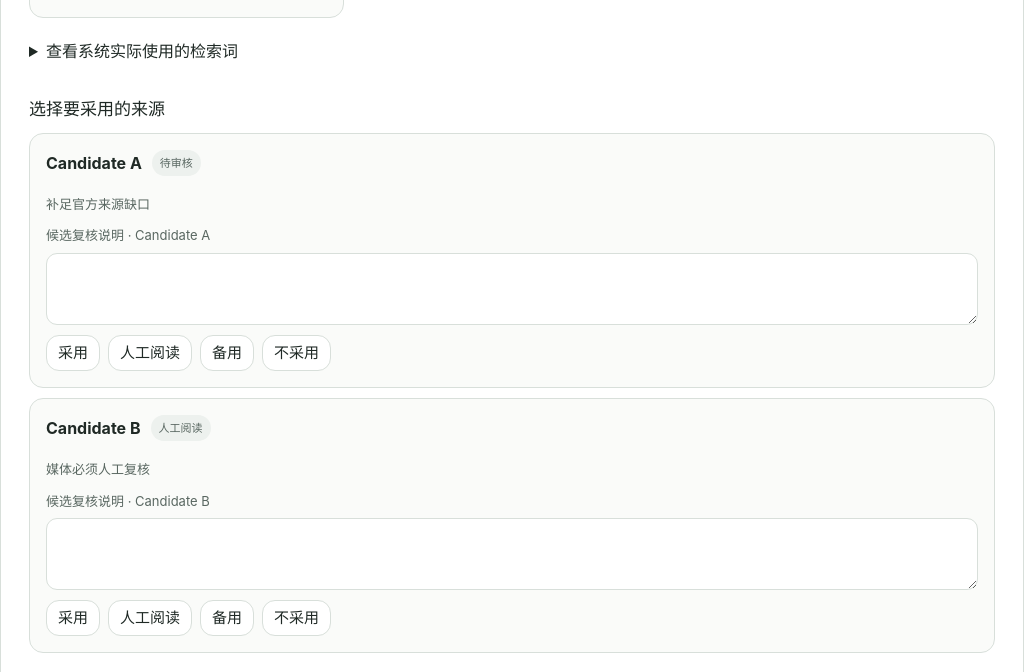
Test: critical workbench workflows › runs the source-campaign review and entity-coverage workbench with explanations
The width and height of the screenshot is (1024, 672).
(page scrolled)
Type "同 owner 重复" into the text box labelled "候选复核说明 · Candidate A" at coordinates (512, 289), box [46, 253, 978, 325]
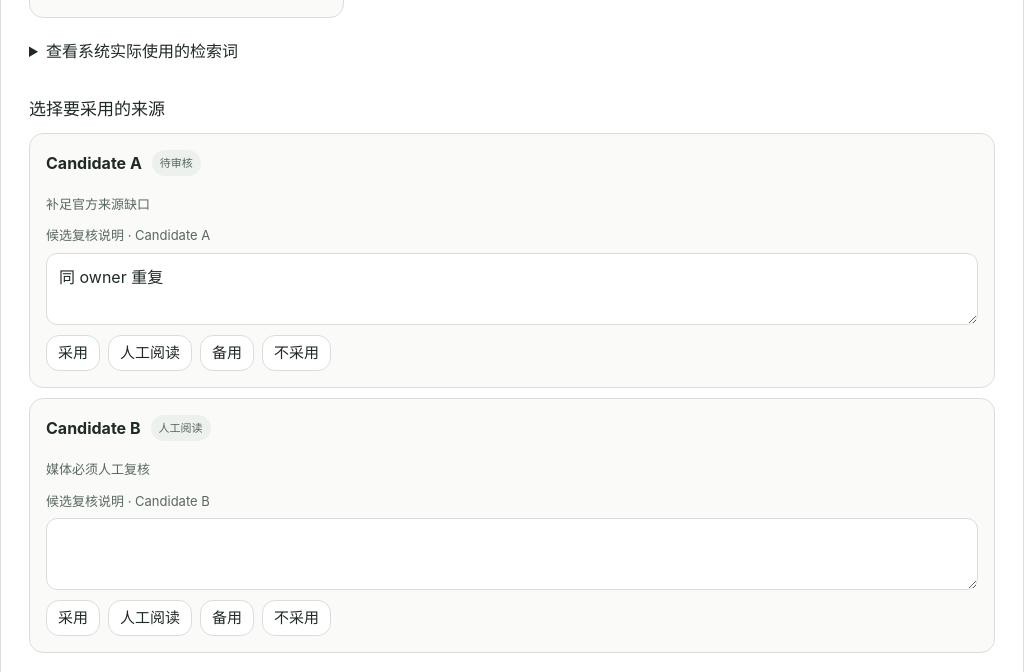
Click the button named "备用 · Candidate A" at coordinates (227, 353), box [200, 335, 254, 371]
(page scrolled)
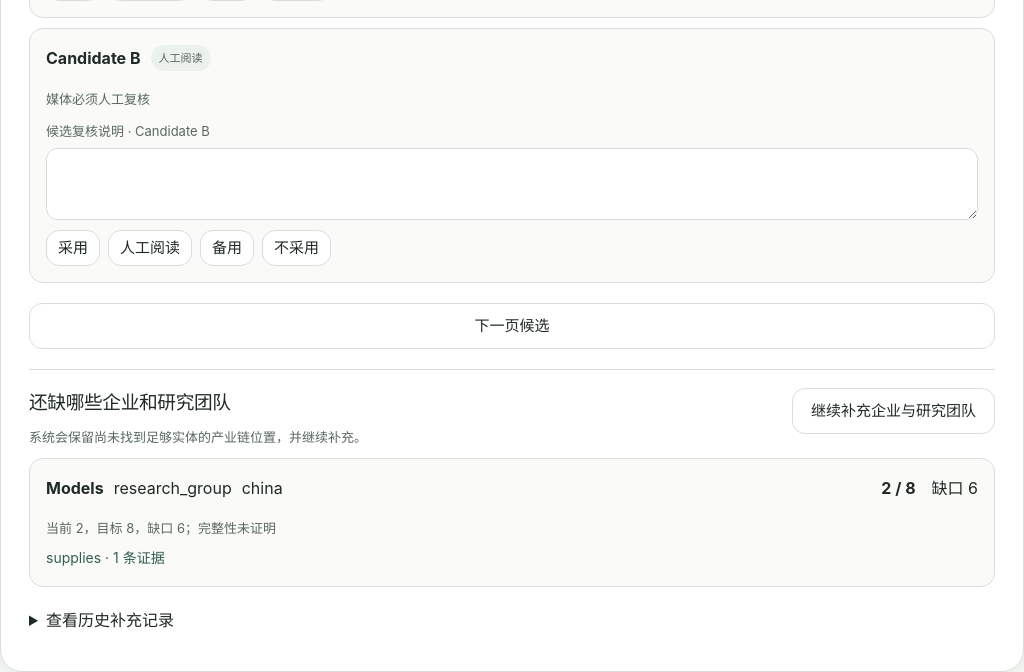
Click the button "下一页候选" at coordinates (512, 326), box [29, 303, 995, 349]
(page scrolled)
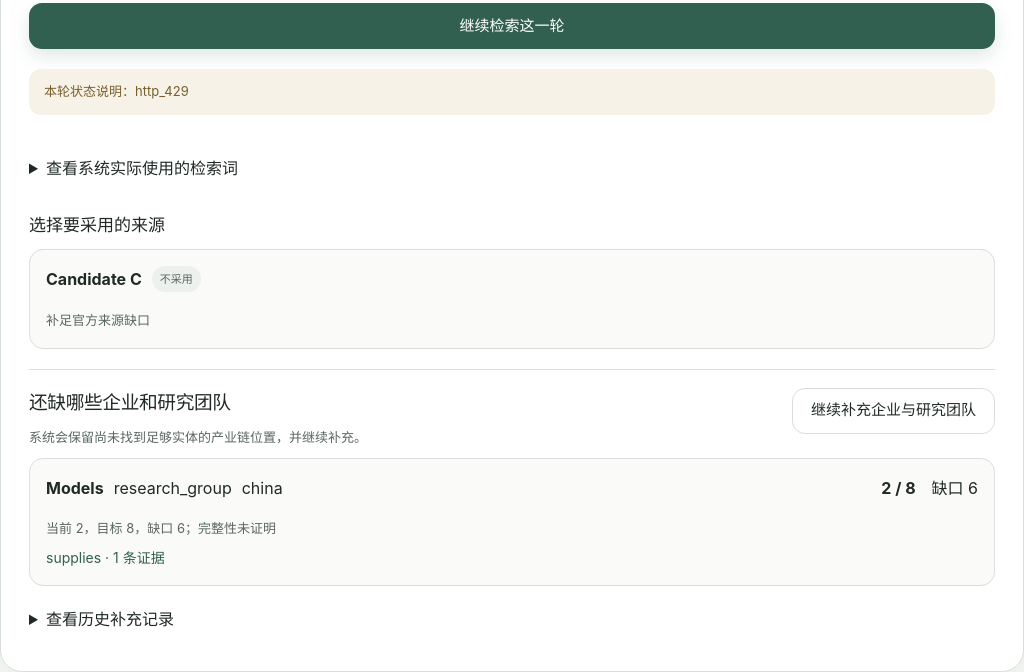
Expected: the text "Candidate C" is shown, [46, 266, 142, 292]
